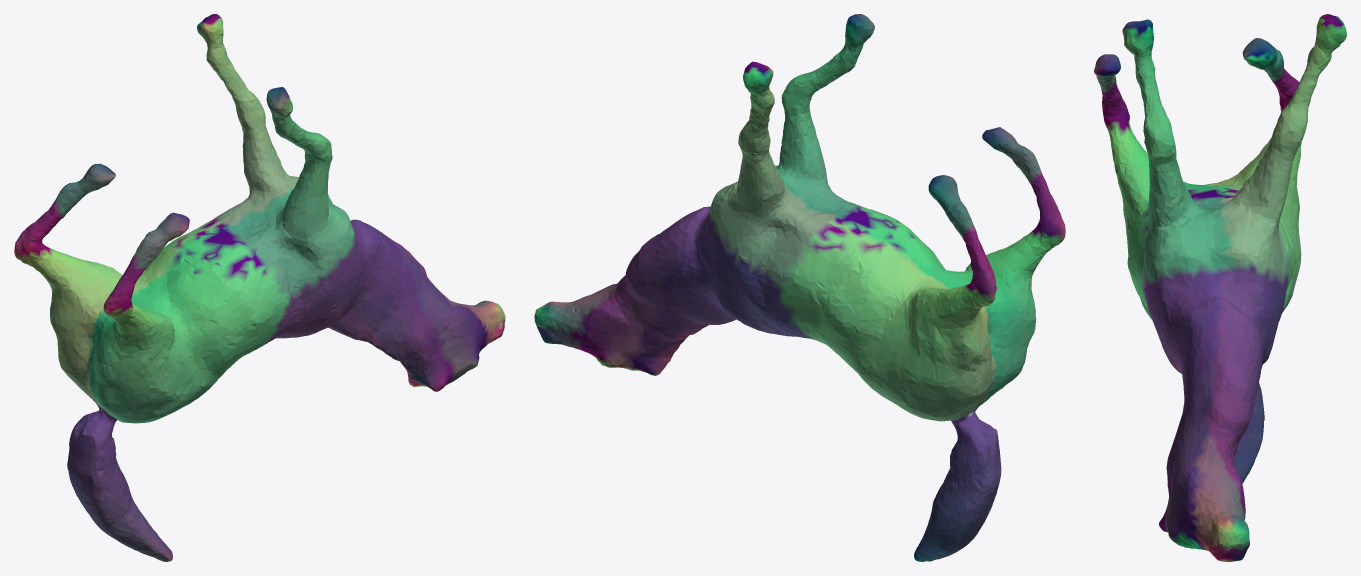
Rendered from horse-13.off.obj.
3 views of the same model, side by side, from view 1: azimuth 30°, elevation 25°; view 2: azimuth 150°, elevation 25°; view 3: azimuth 270°, elevation 25° (orthographic). The views are drawn at different scales.
Bounding box in the file's own units: 1.43 × 1.43 × 0.5764.
